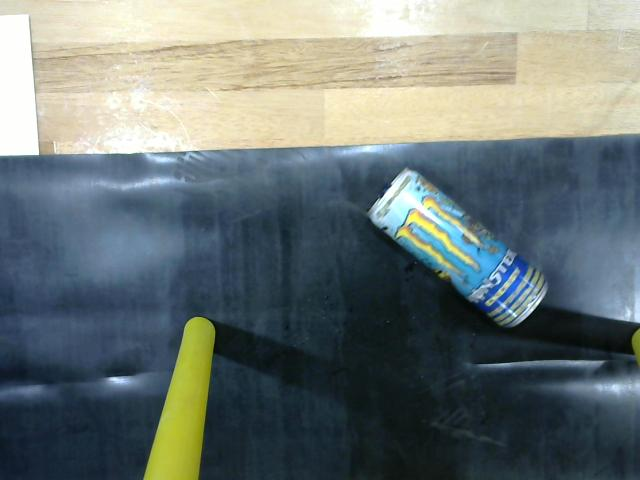can: (363, 157, 554, 336)
